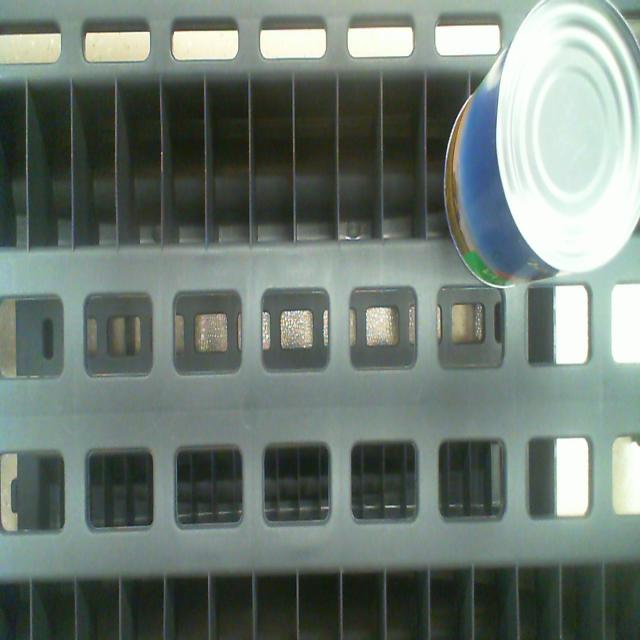can: (498, 0, 640, 274)
